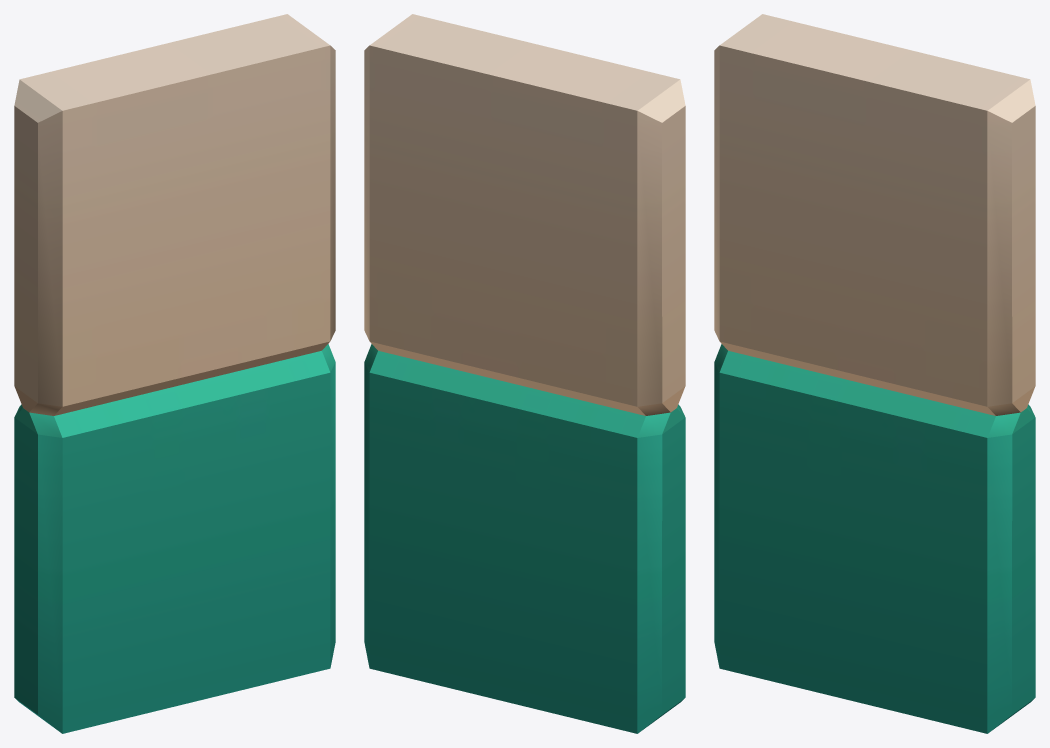
Rendered from wall-half.glb.
The picture shows the model from 3 angles, left to right: view 1: azimuth 30°, elevation 25°; view 2: azimuth 150°, elevation 25°; view 3: azimuth 330°, elevation 25°; orthographic projection.
Visible parts, largest first — view 1: wall_half; view 2: wall_half; view 3: wall_half.
Boxes of the visible parts, left/top/right/bottom form: wall_half: left=14, top=14, right=335, bottom=733; wall_half: left=364, top=14, right=685, bottom=733; wall_half: left=714, top=14, right=1035, bottom=733.
Size of the model in its own units: 2 by 4 by 0.5.
Materials: 1 (1 with a texture image).
